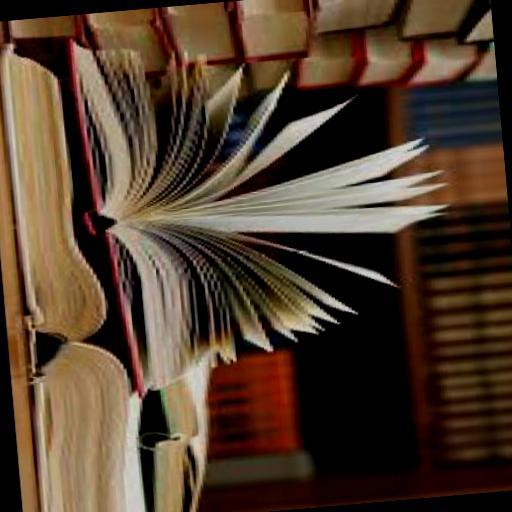paper: (68, 6, 466, 404), (0, 33, 151, 512), (138, 375, 224, 512), (214, 354, 306, 462), (85, 8, 182, 83), (407, 82, 502, 154), (410, 143, 508, 209), (238, 0, 320, 68), (162, 2, 244, 70), (204, 451, 318, 493), (8, 14, 96, 64), (395, 0, 490, 43), (314, 0, 408, 39), (293, 36, 356, 92), (358, 29, 413, 91), (409, 34, 472, 88), (420, 234, 512, 264), (425, 286, 512, 315), (413, 218, 510, 244), (420, 202, 509, 230), (424, 271, 512, 298), (427, 306, 512, 332), (431, 355, 512, 381), (435, 336, 512, 363), (456, 42, 498, 88), (438, 442, 512, 468), (438, 367, 512, 393), (431, 255, 512, 278), (442, 412, 512, 438), (440, 321, 512, 346), (457, 0, 493, 47), (442, 384, 512, 407), (437, 430, 512, 451), (443, 398, 512, 420)
